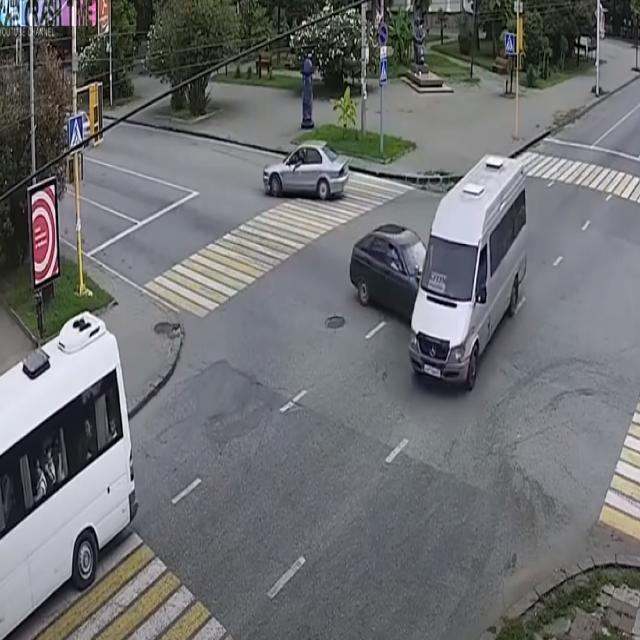car Accident: (323, 135, 576, 379)
